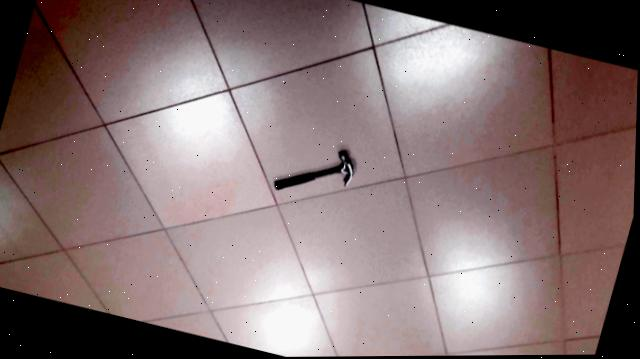hammer: (268, 131, 363, 210)
